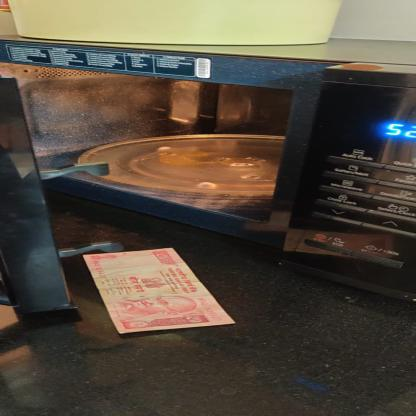Old20Front: (81, 247, 237, 334)
